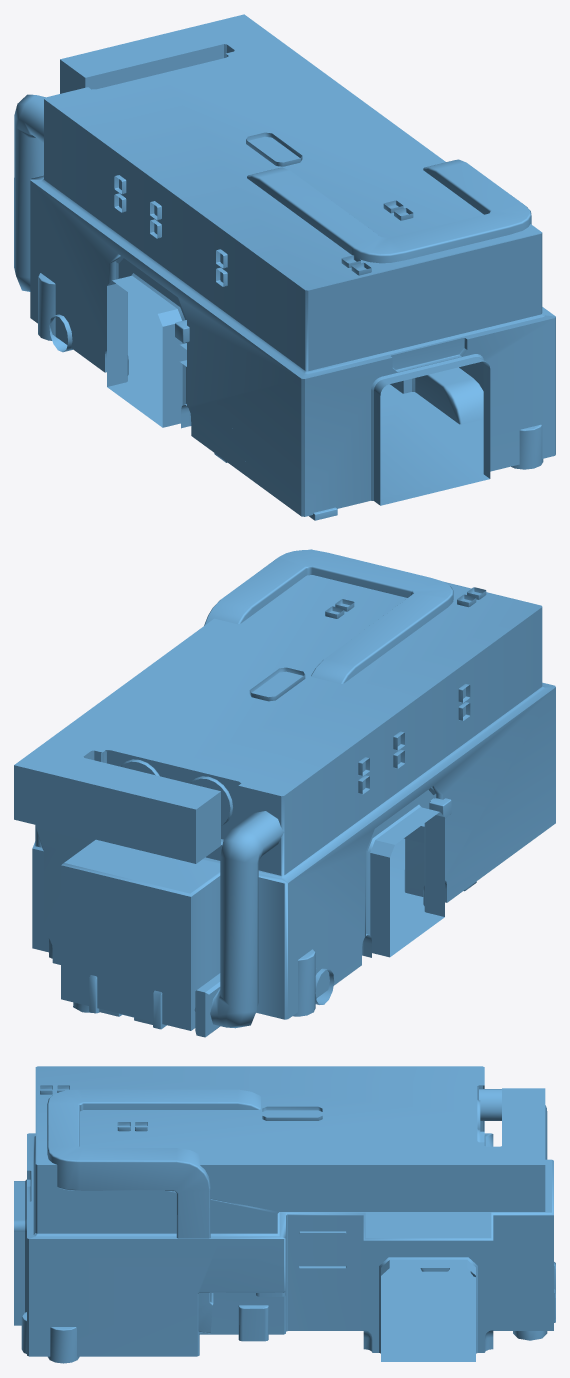
File: effectproxies_warehouse_barrierfloor_wwne_03.fbx
3 renders of one model, top to bottom at view 1: azimuth 30°, elevation 25°; view 2: azimuth 150°, elevation 25°; view 3: azimuth 270°, elevation 25°, orthographic. The views are drawn at different scales.
Parts seen in each view (by area): view 1: warehouse_barrierfloor_nnne_02.108; view 2: warehouse_barrierfloor_nnne_02.108; view 3: warehouse_barrierfloor_nnne_02.108.
Boxes of the visible parts, left/top/right/bottom form: warehouse_barrierfloor_nnne_02.108: left=14, top=14, right=555, bottom=520; warehouse_barrierfloor_nnne_02.108: left=14, top=549, right=555, bottom=1037; warehouse_barrierfloor_nnne_02.108: left=14, top=1066, right=555, bottom=1363.
Size of the model in its own units: 32 by 26.2 by 62.75.
